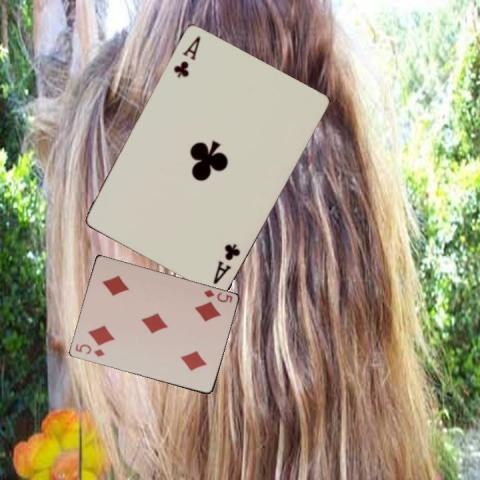5d: (72, 341, 106, 358), (201, 287, 233, 304)
Ac: (170, 33, 202, 78), (210, 240, 241, 285)
